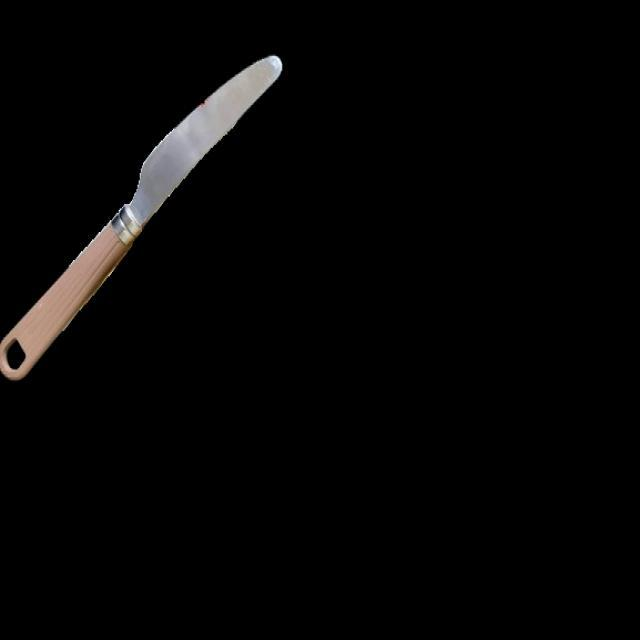knife: (0, 44, 292, 393)
